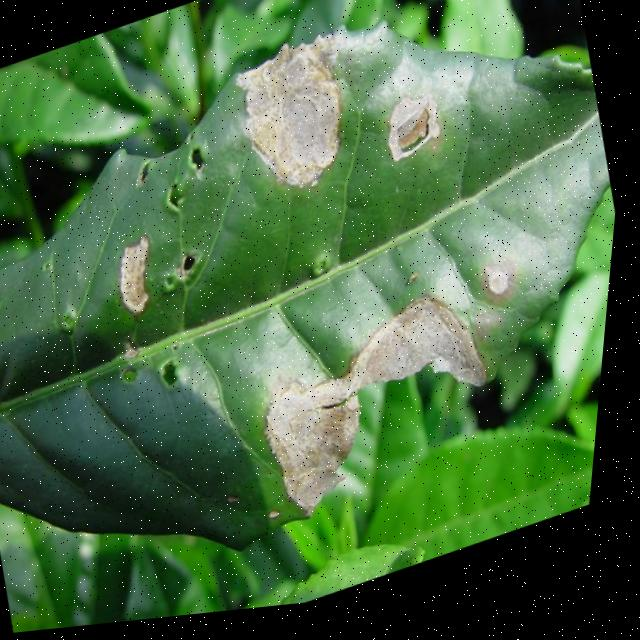Tea cloud leaf blight: (245, 291, 517, 514), (227, 34, 373, 227), (100, 215, 190, 341), (377, 82, 469, 183), (482, 271, 537, 321)
